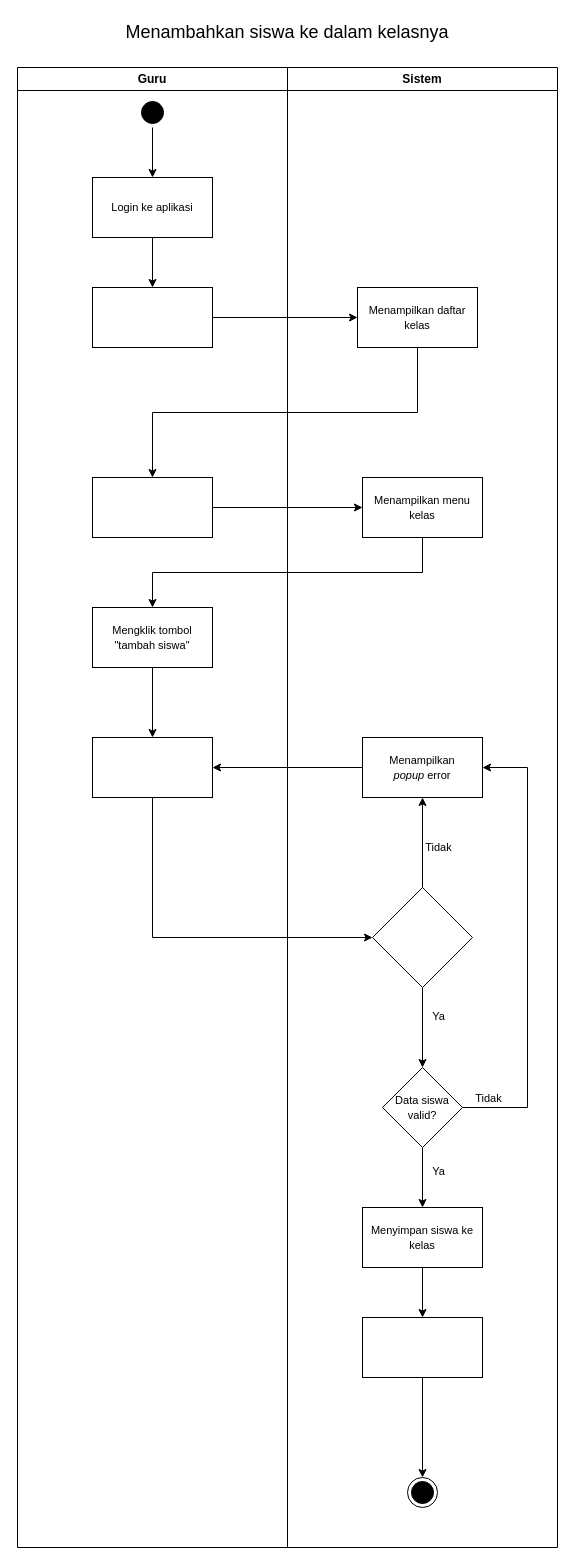
The diagram is 575 pixels wide and 1565 high, and some of its shapes have lost their labels. Each missing label, with the centre of its shape:
Masuk ke kelas yang ingin ditambahkan siswanya: pixel 152 507
Memilih menu "daftar kelas": pixel 152 317
Menampilkan daftar siswa terbaru: pixel 422 1347
Mengisi data siswa yang ingin dimasukkan: pixel 152 767
Siswa belum ada di kelas?: pixel 422 937
